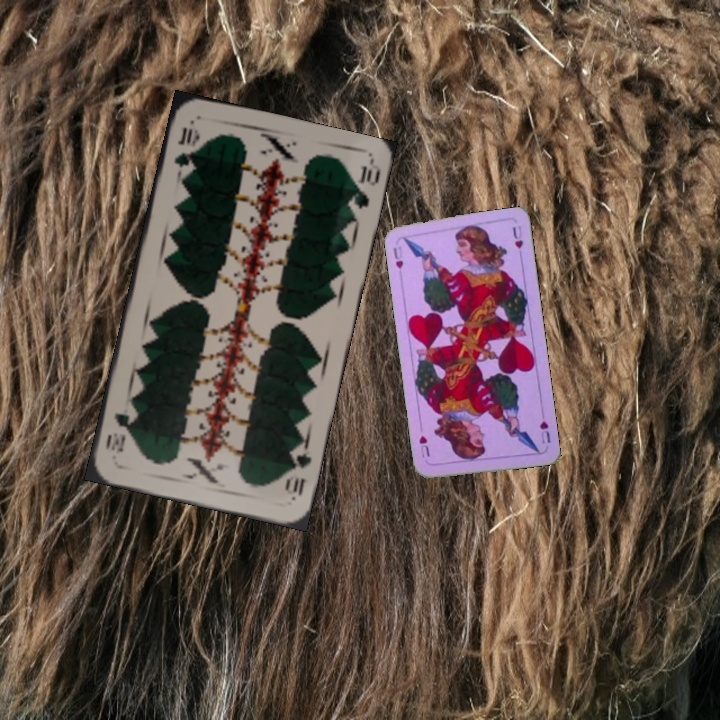G10: (281, 442, 314, 502), (170, 123, 201, 170)
HU: (536, 417, 553, 446), (389, 242, 406, 271)
